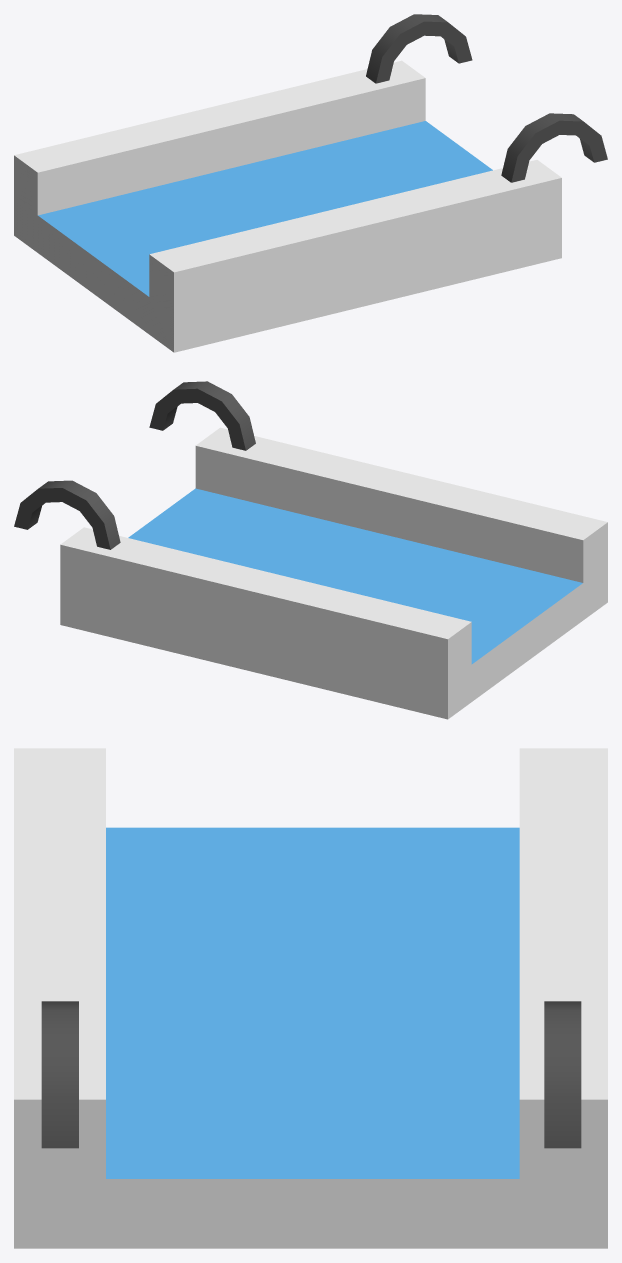
File: Dest_PowerPlant_Belt_Bridge.FBX
3 renders of one model, top to bottom at view 1: azimuth 30°, elevation 25°; view 2: azimuth 150°, elevation 25°; view 3: azimuth 270°, elevation 25°, orthographic. The views are drawn at different scales.
Visible parts, largest first — view 1: Box003; view 2: Box003; view 3: Box003.
Boxes of the visible parts, x1,y1,x2,y2 form: Box003: [14, 14, 607, 352]; Box003: [14, 381, 607, 719]; Box003: [14, 748, 607, 1248].
Size of the model in its own units: 40.38 by 11.43 by 25.37.
